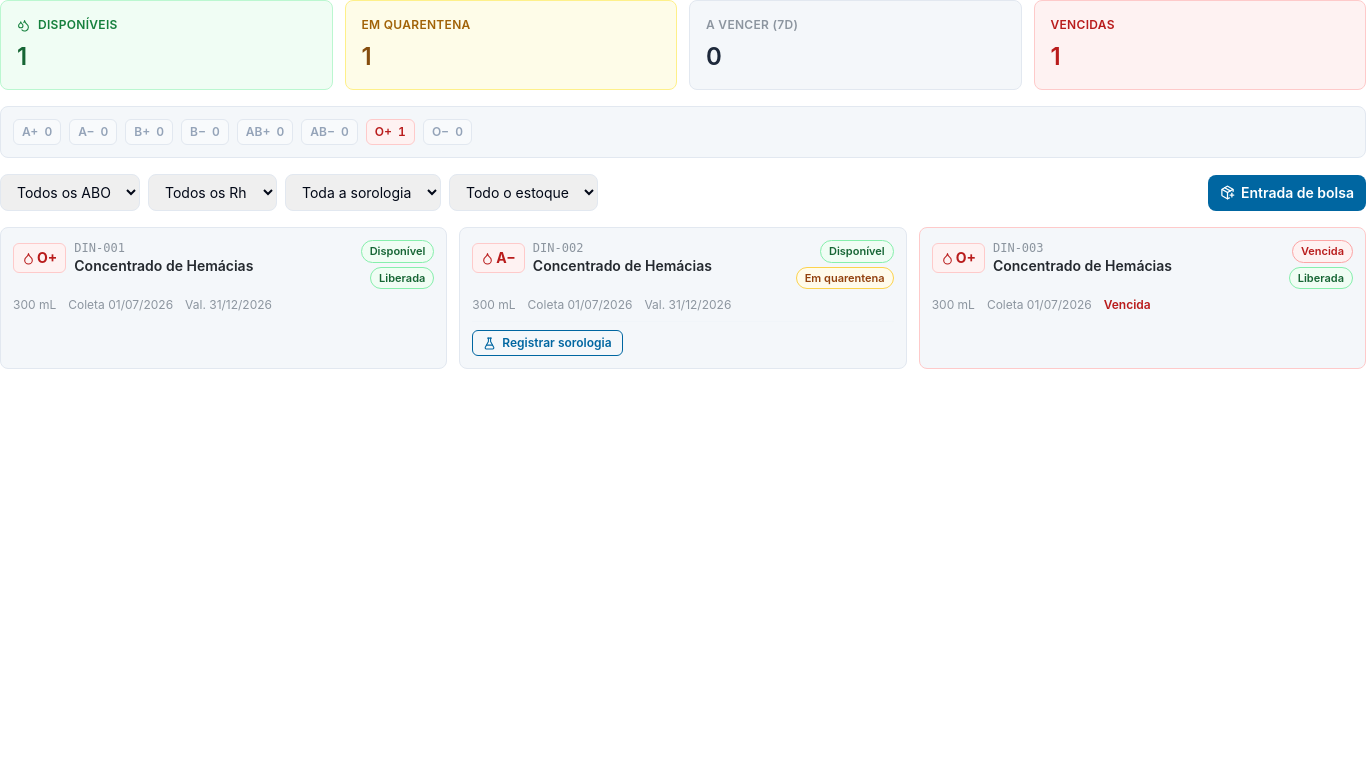
Scenario: BloodStockBoard › opens the entrada modal with hemoterapia.manage
Expected: the text "DIN-001" is shown, [74,241,125,255]
Click the button "Entrada de bolsa". click: [1287, 192]
box: [1208,174,1365,210]
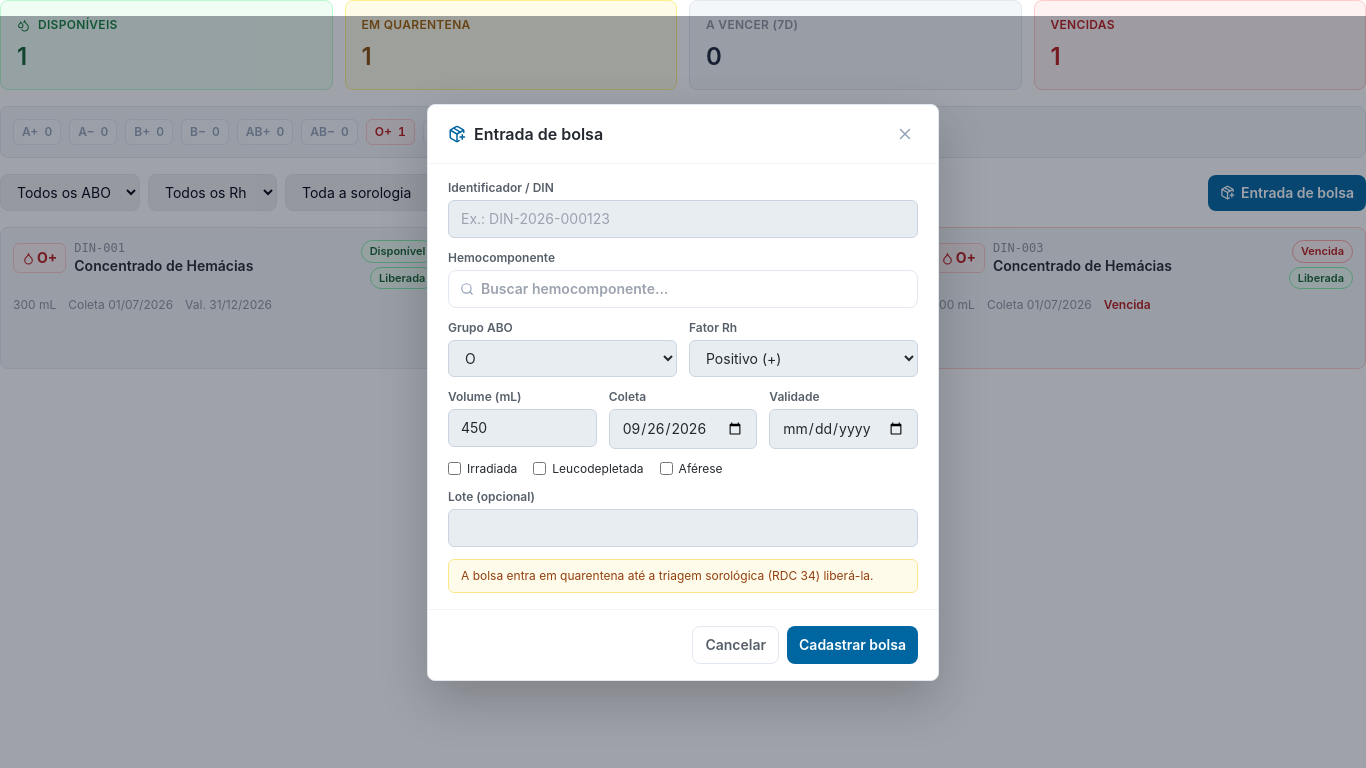
Expected: the dialog named "Cadastrar bolsa de sangue" is shown
